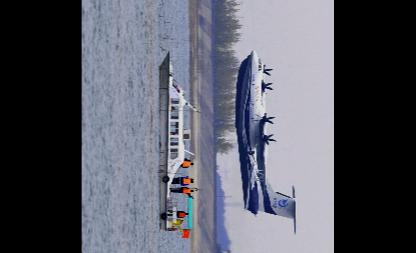AG600: (236, 50, 298, 235)
